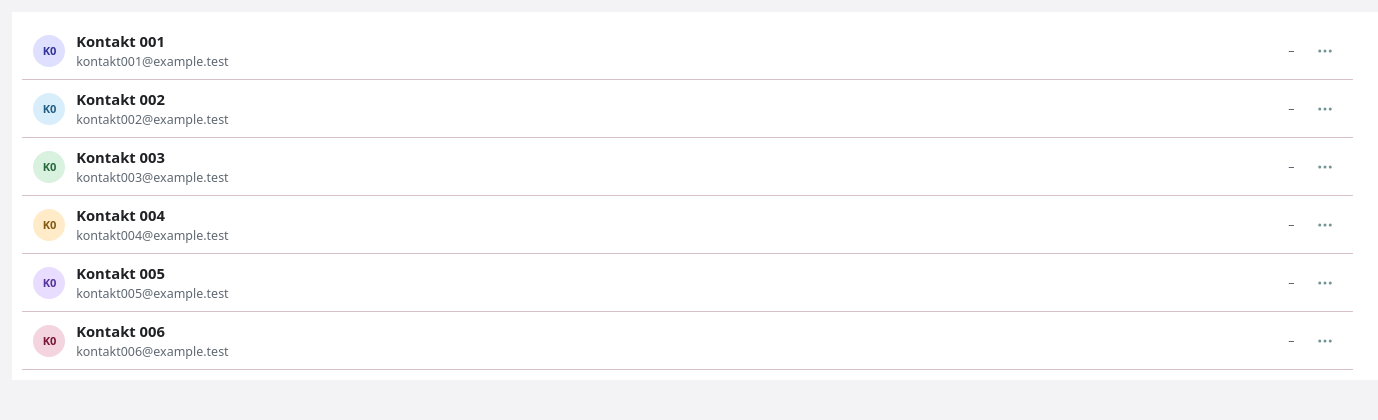
Test: ContactTable › seleciona intervalos com Shift e contatos avulsos com Ctrl
The width and height of the screenshot is (1378, 420).
Click the option "K0 Kontakt 002 kontakt002@example.test –" at (49, 108), box [22,80,1353,138]
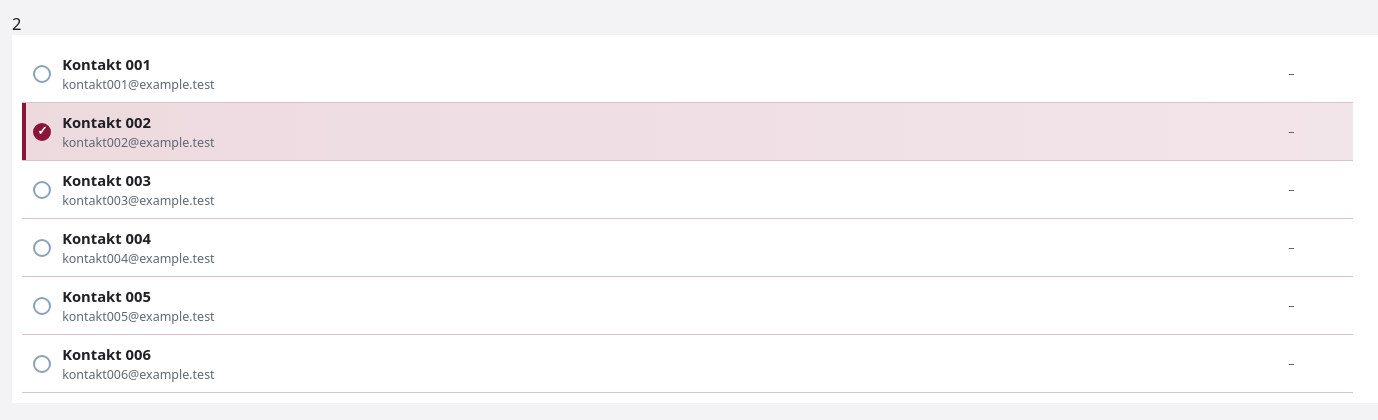
Click the option "Kontakt 005 kontakt005@example.test –" at (106, 296), box [22,277,1353,335]
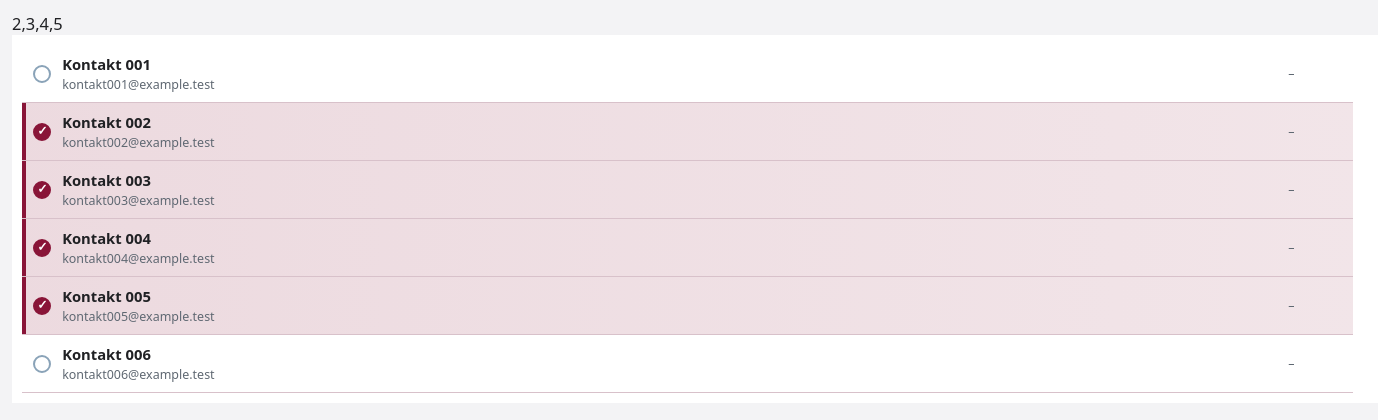
Check: the text with test id "selected-ids" reads "2,3,4,5", box [12,12,63,35]
Click the option "Kontakt 001 kontakt001@example.test –" at (106, 64), box [22,45,1353,103]
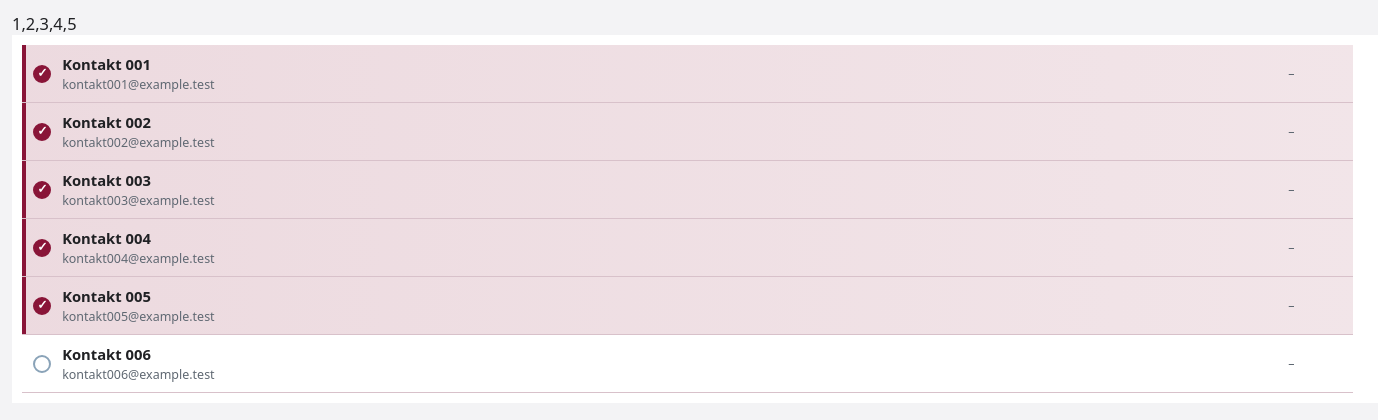
Check: the text with test id "selected-ids" reads "1,2,3,4,5", box [12,12,76,35]
